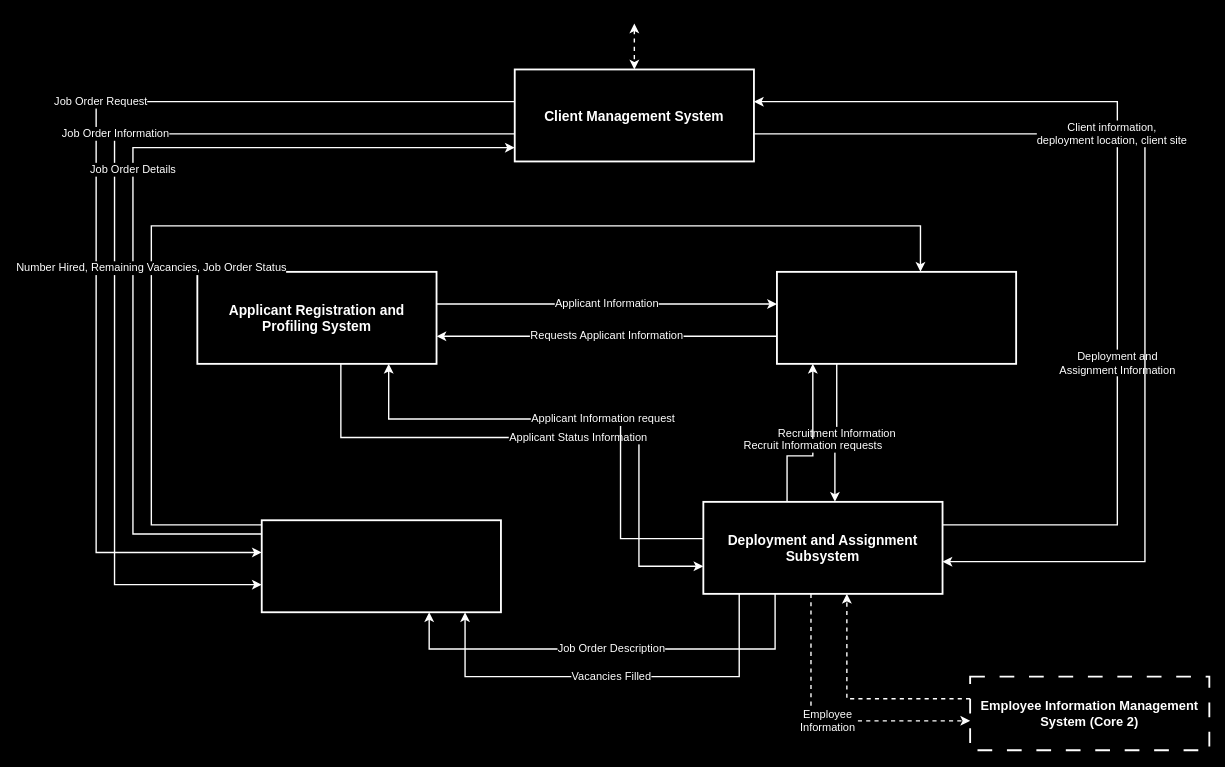
Image size: 1225x767. Some labels were removed from this diagram. The shapes that lost their labels are listed below. From the top down, each one's box as (x1, y1, x2, y2) in pixels, then its label:
(776, 270, 1017, 364): Recruitment and Selection System
(260, 519, 501, 613): Job Order Management System
